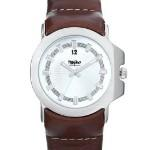watch: (29, 22, 141, 127)
